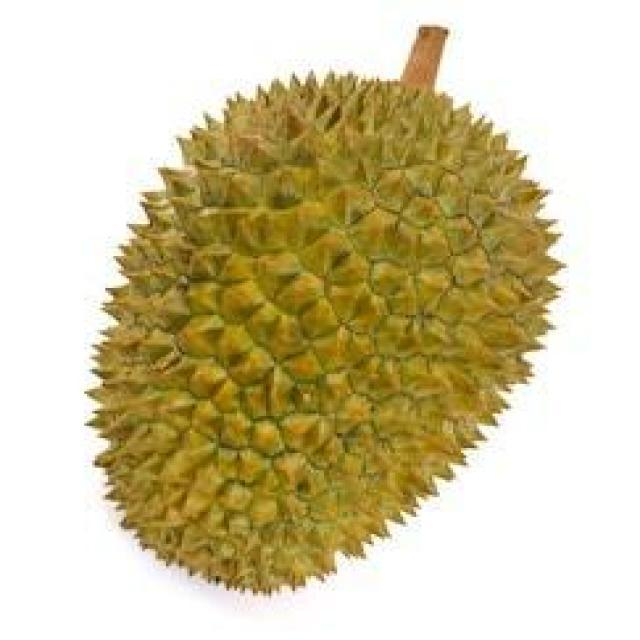mature: (91, 75, 560, 592)
